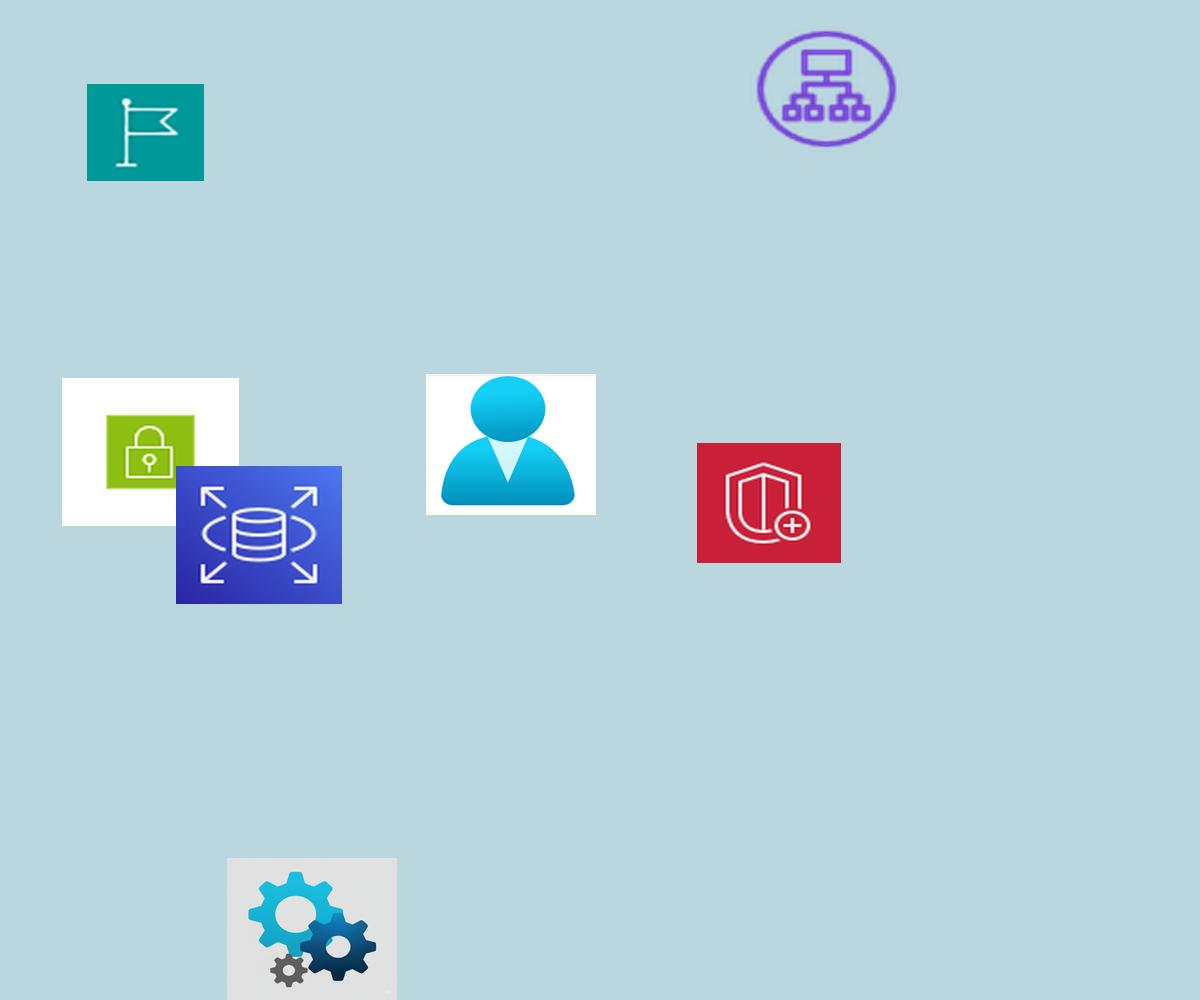AWS-Public-subnet: (62, 378, 239, 526)
AWS-RDS: (176, 466, 342, 604)
AWS-Region: (87, 84, 204, 181)
AWS-Res_Elastic-Load-Balancing_Application-Load-Balancer: (751, 26, 902, 152)
AWS-Shield: (697, 443, 841, 563)
Azure_api: (227, 858, 397, 1000)
Azure_users: (426, 374, 596, 515)
